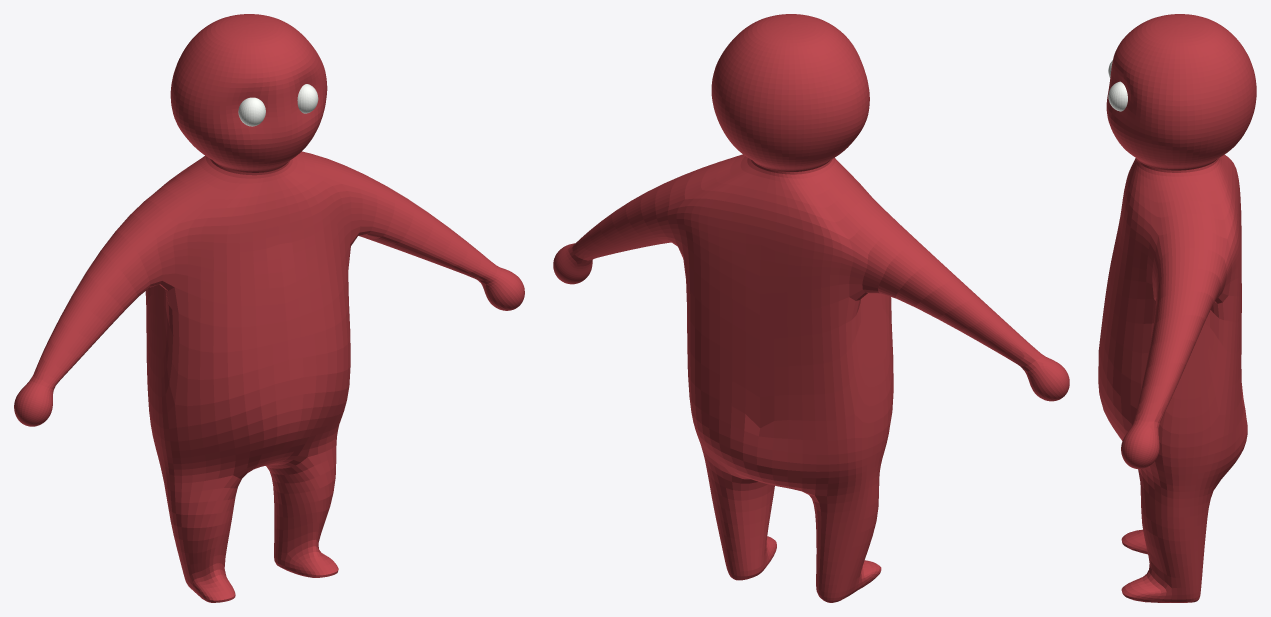
The model's file is blob-player.glb.
3 renders of one model, left to right at view 1: azimuth 30°, elevation 25°; view 2: azimuth 150°, elevation 25°; view 3: azimuth 270°, elevation 25°, orthographic.
Visible parts, largest first — view 1: Sphere.001; view 2: Sphere.001; view 3: Sphere.001.
Part boxes in pixels (left/top/right/bottom): Sphere.001: left=14, top=14, right=524, bottom=602; Sphere.001: left=553, top=14, right=1069, bottom=602; Sphere.001: left=1098, top=14, right=1256, bottom=602.
Size of the model in its own units: 4.53 by 4.74 by 1.23.
